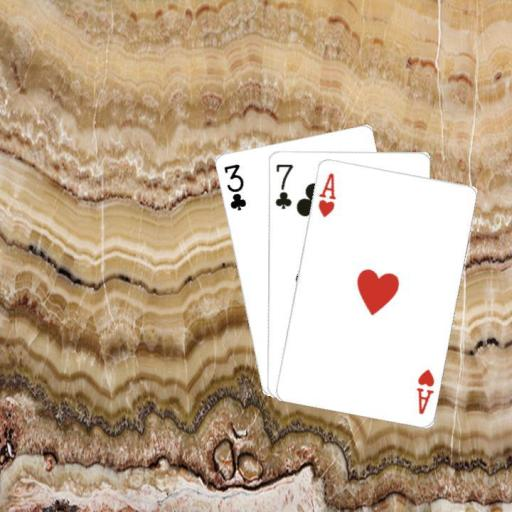3C: (220, 160, 247, 212)
7C: (272, 160, 295, 210)
AH: (412, 366, 436, 416), (314, 170, 338, 219)
